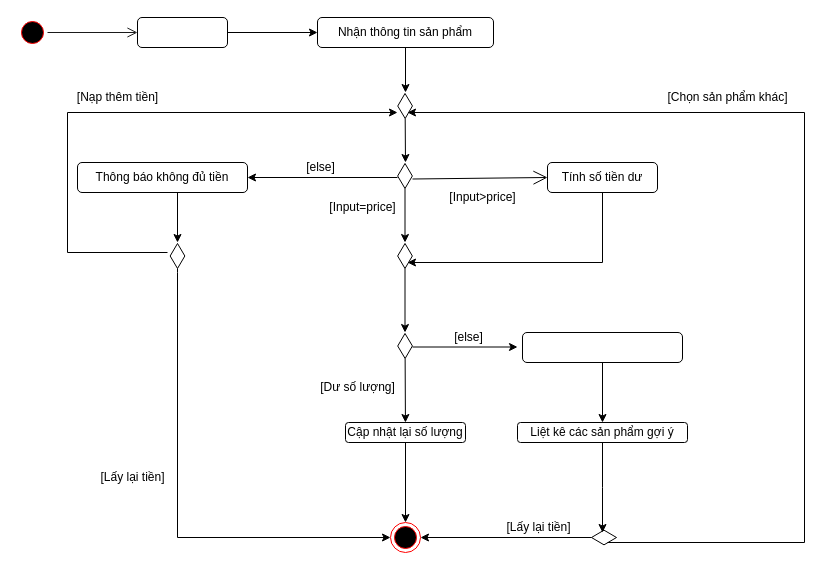
The diagram is 830 pixels wide and 581 high, and some of its shapes have lost their labels. The shapes that lost their labels are listed below. From the top down, each one's centre as x and y in pixels, then its label:
(182,32): Nhận tiền
(602,347): Thông báo "SOLD OUT"
